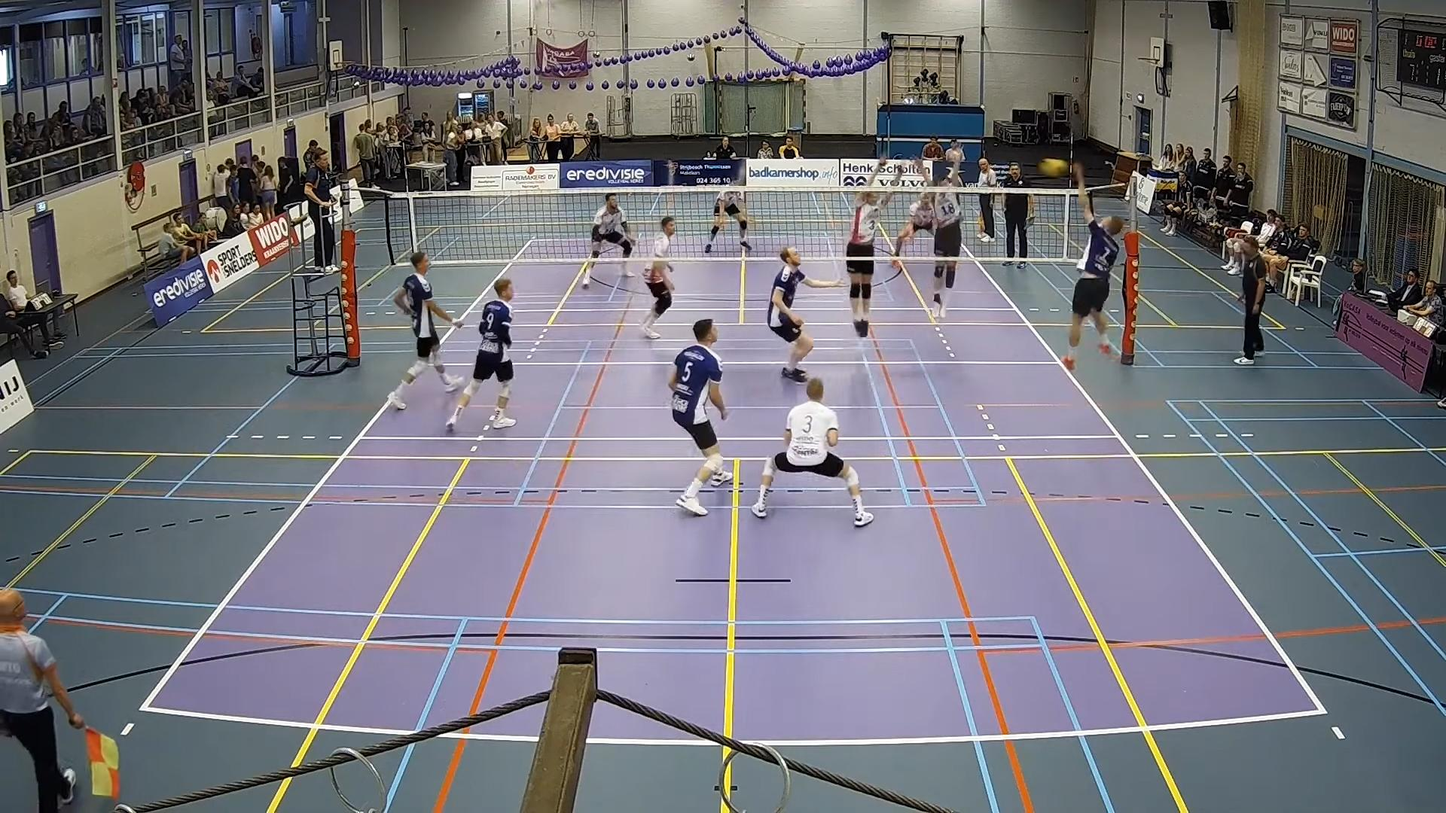Attack: (1068, 194, 1140, 370)
Block: (842, 154, 903, 341), (928, 152, 963, 313)
Player: (751, 378, 873, 526), (670, 319, 731, 516), (387, 251, 462, 409), (446, 278, 515, 431), (767, 247, 844, 382), (582, 193, 633, 288), (640, 216, 675, 339), (892, 190, 934, 267), (704, 186, 751, 253)
ball: (1040, 160, 1070, 177)
